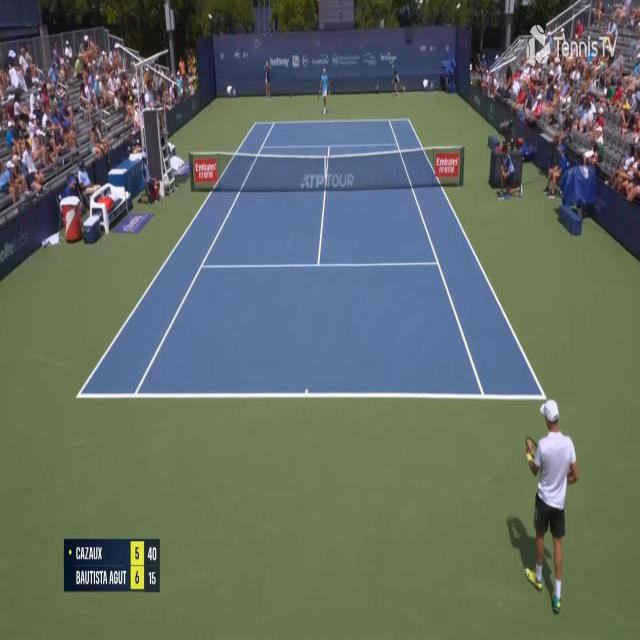tennis-player: (503, 398, 583, 618), (319, 66, 330, 116)
